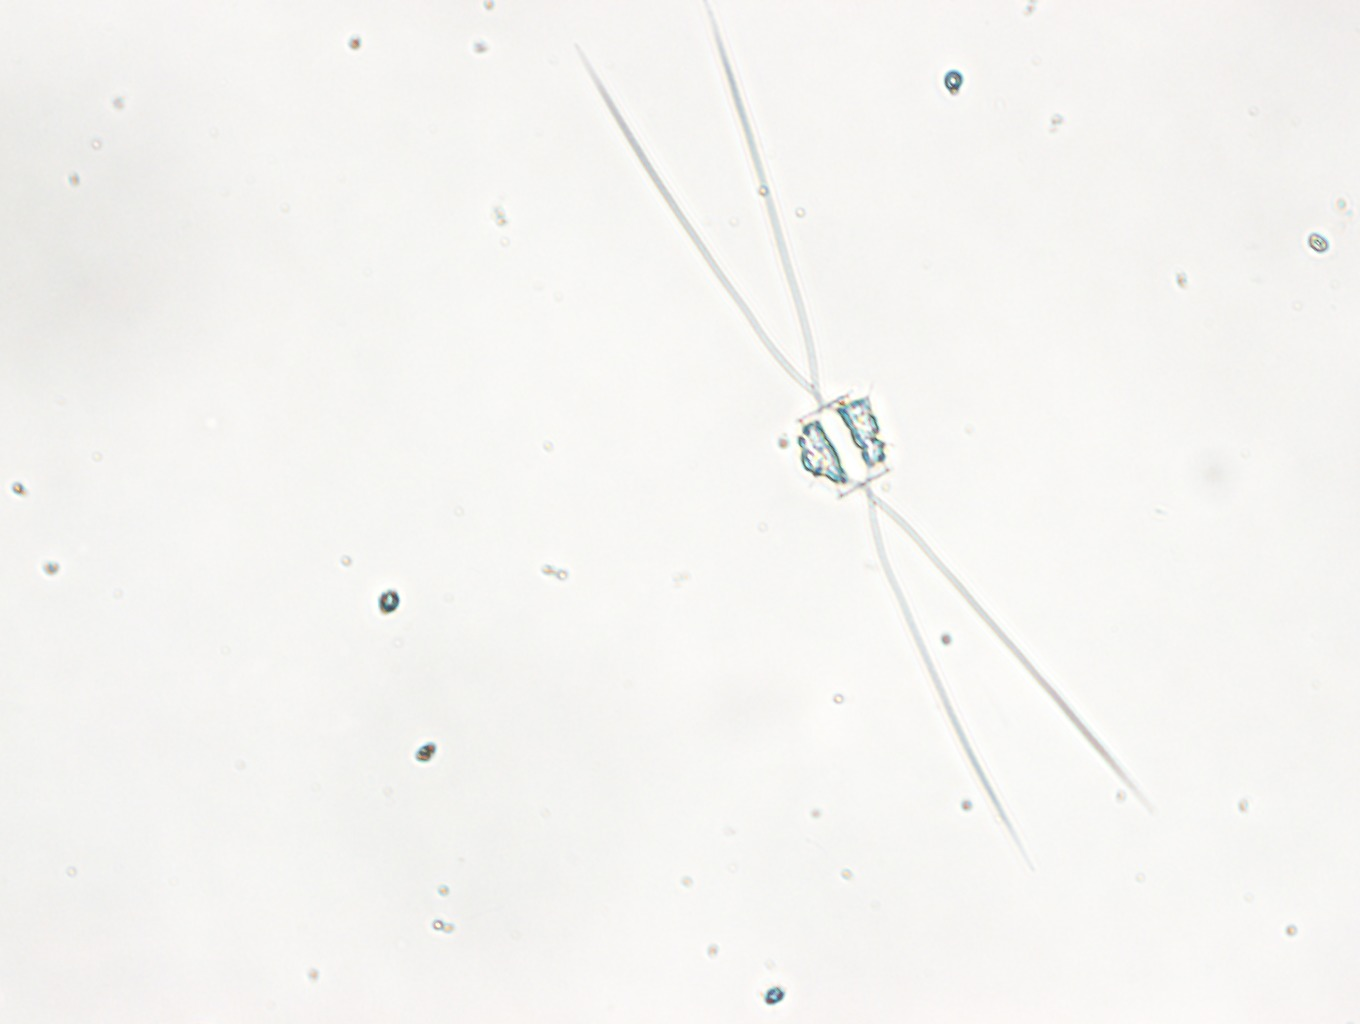chaetoceros: (567, 1, 1157, 883)
